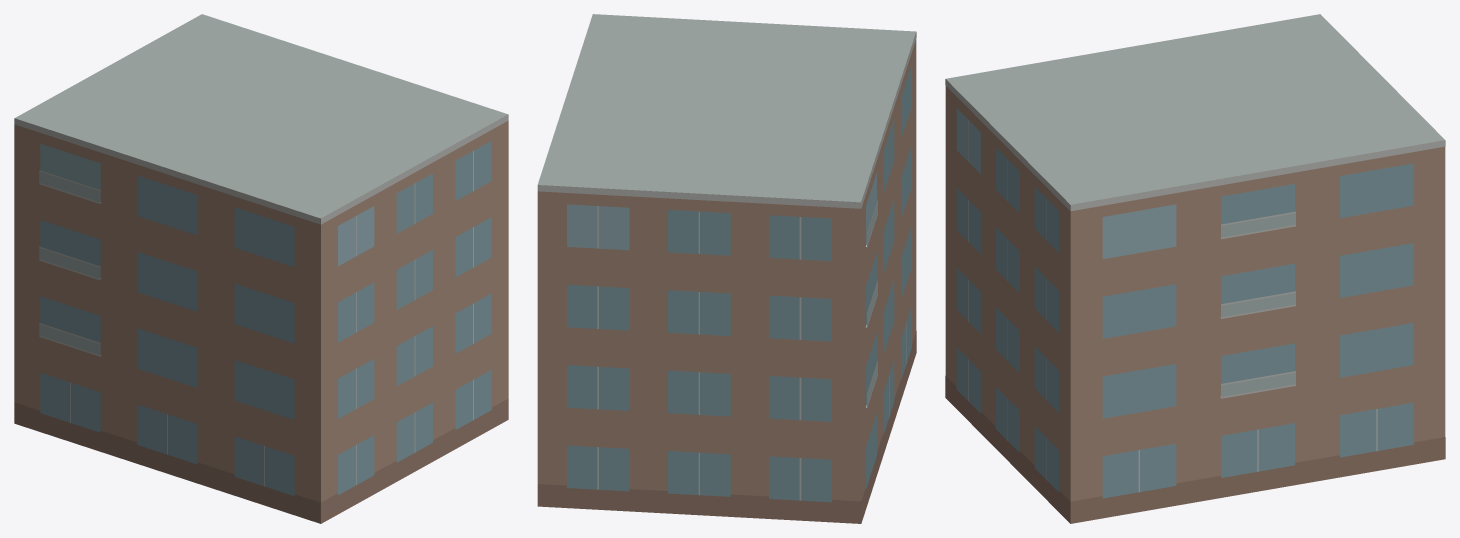
Rendered from survey-upis-32750244.glb.
3 views of the same model, side by side, from view 1: azimuth 30°, elevation 25°; view 2: azimuth 150°, elevation 25°; view 3: azimuth 270°, elevation 25° (orthographic). The views are drawn at different scales.
Visible parts, largest first — view 1: survey-upis-32750244.tmp; view 2: survey-upis-32750244.tmp; view 3: survey-upis-32750244.tmp.
Part boxes in pixels (box(x1,y1,x2,y2)): survey-upis-32750244.tmp: box(14, 14, 508, 523); survey-upis-32750244.tmp: box(537, 14, 916, 523); survey-upis-32750244.tmp: box(945, 14, 1445, 523).
Size of the model in its own units: 15.67 by 12.2 by 17.34.
